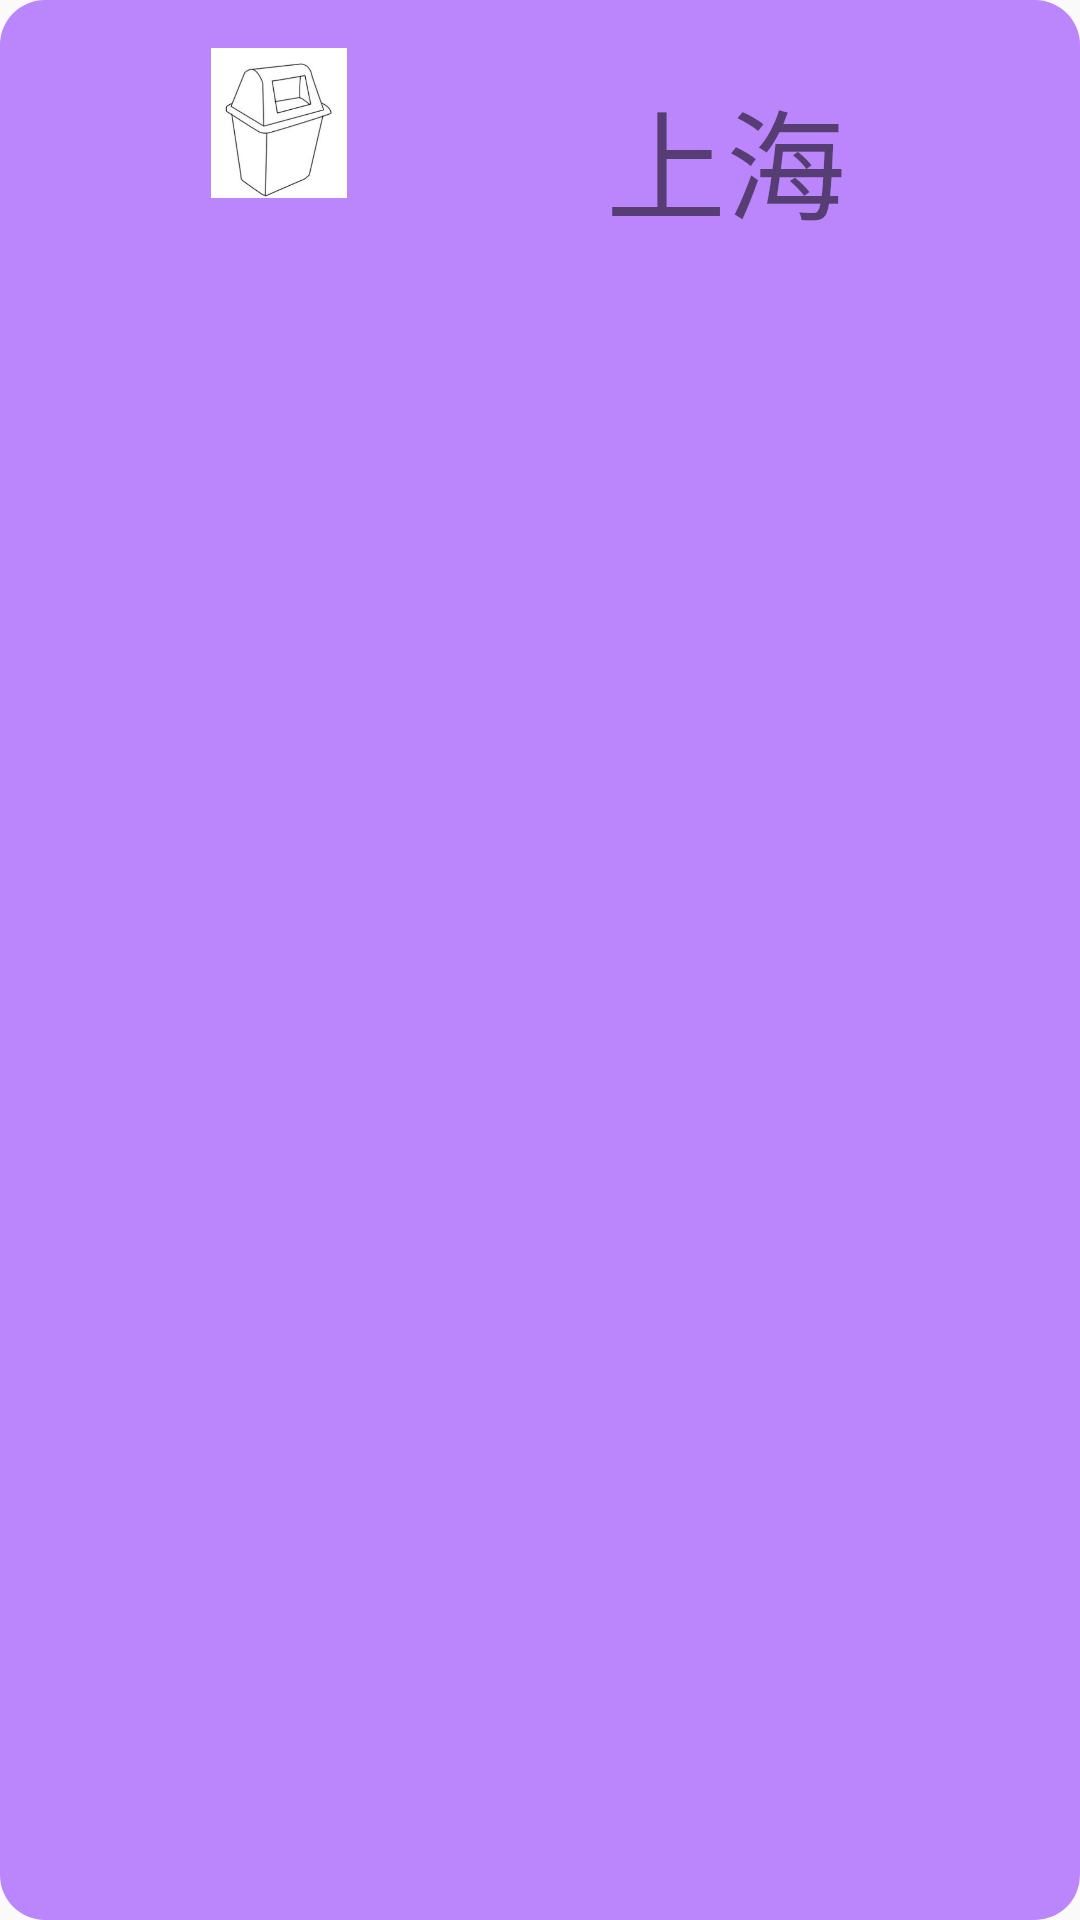

Locate icon controls on the screen. Image size 1080 x 1920, boxes as (x1, y1, x2, y2).
trash: (211, 48, 347, 198)
